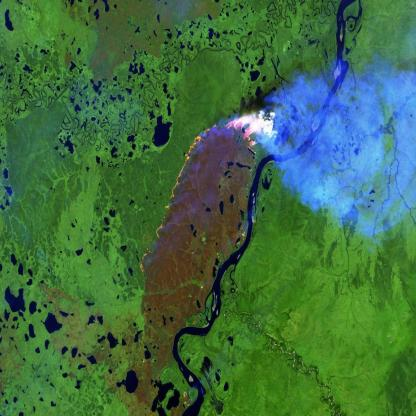fire: (136, 106, 279, 288)
